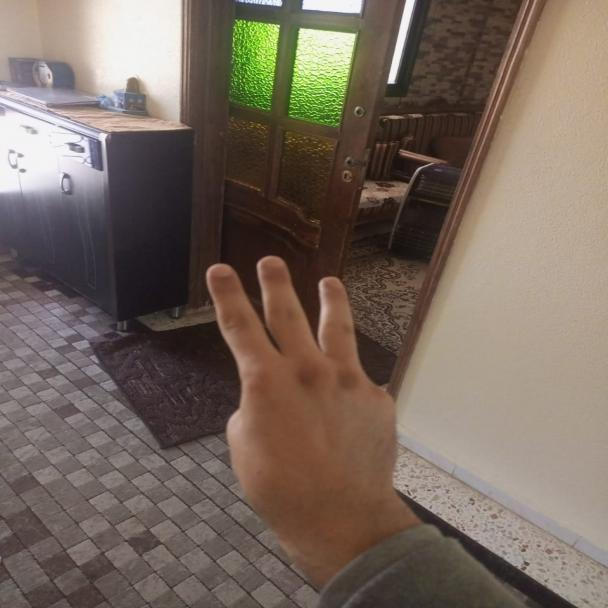five: (187, 244, 418, 524)
